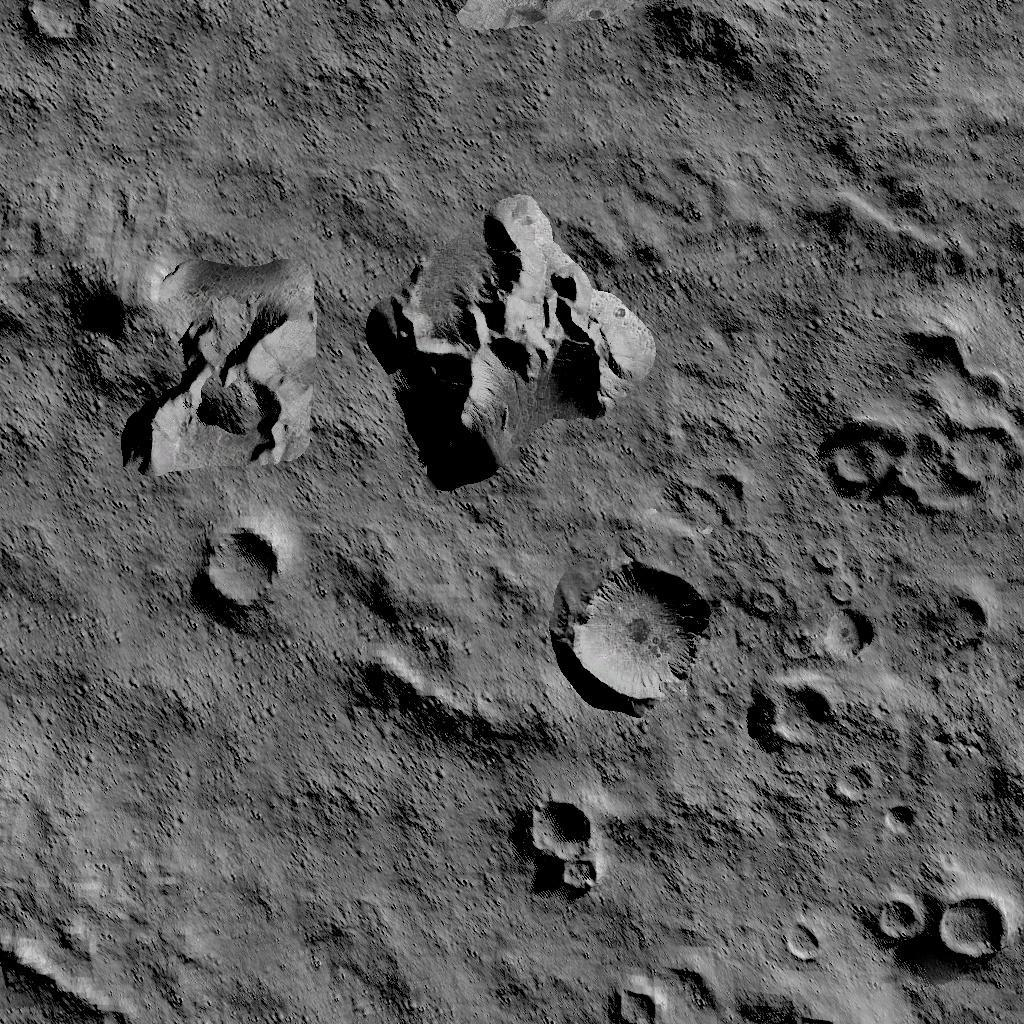Boulders: (0, 192, 323, 472), (370, 200, 656, 488), (446, 0, 823, 105), (811, 130, 1024, 283), (354, 655, 556, 758), (0, 932, 138, 1024)
Crater: (826, 330, 1024, 513), (568, 558, 712, 706), (874, 882, 1008, 970), (518, 792, 606, 902), (196, 525, 290, 615), (754, 670, 842, 748), (21, 0, 98, 50), (606, 975, 663, 1024)
Plan surface: (0, 485, 183, 920), (198, 770, 508, 1024), (113, 0, 433, 180), (836, 0, 1024, 118)
